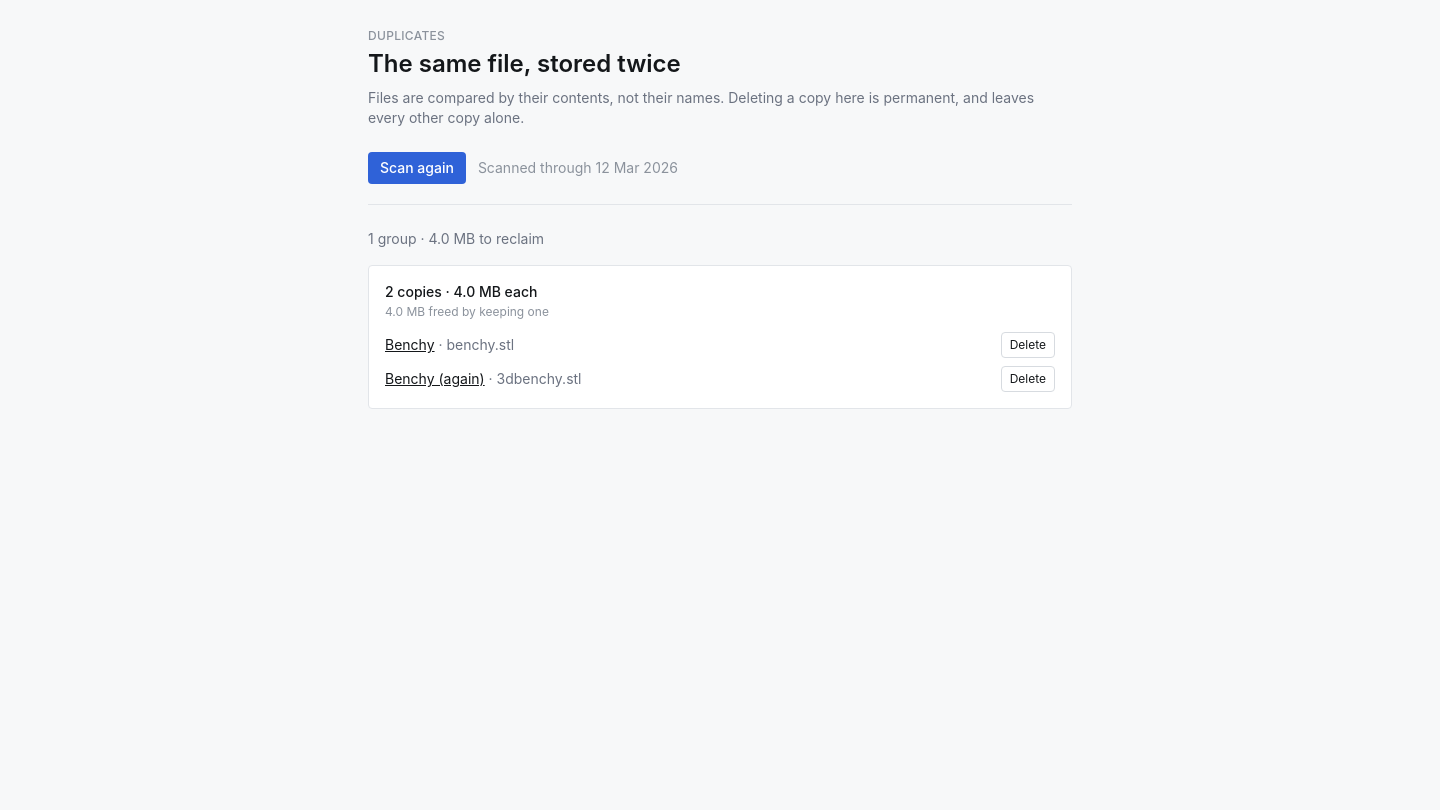
Test case: duplicates page › does not let a read started before a scan put a stale answer back
Click the button "Delete" in the row of "· benchy.stl": (1028, 345) [1001,332,1055,358]
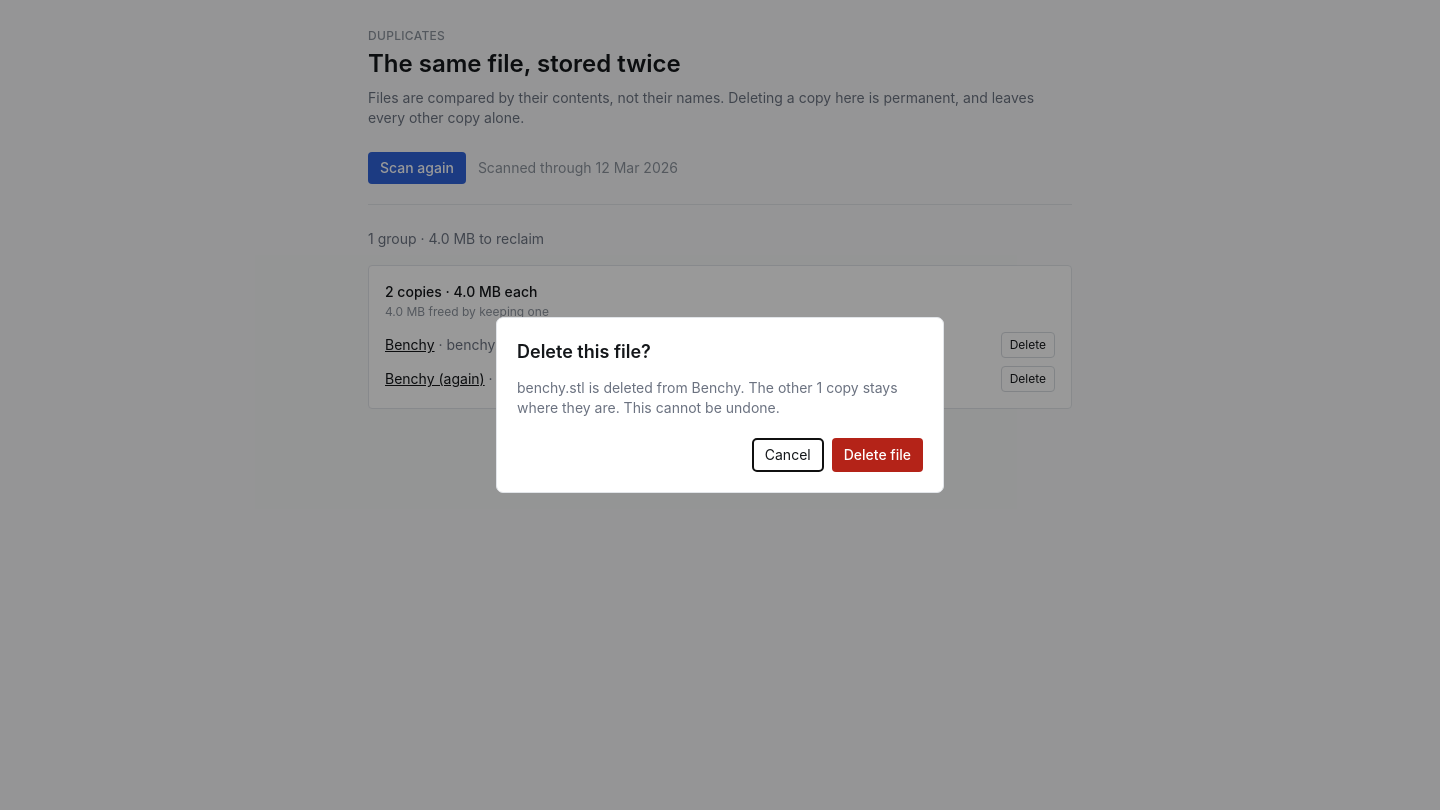
Click the button "Delete file": (877, 455) [832,438,923,472]
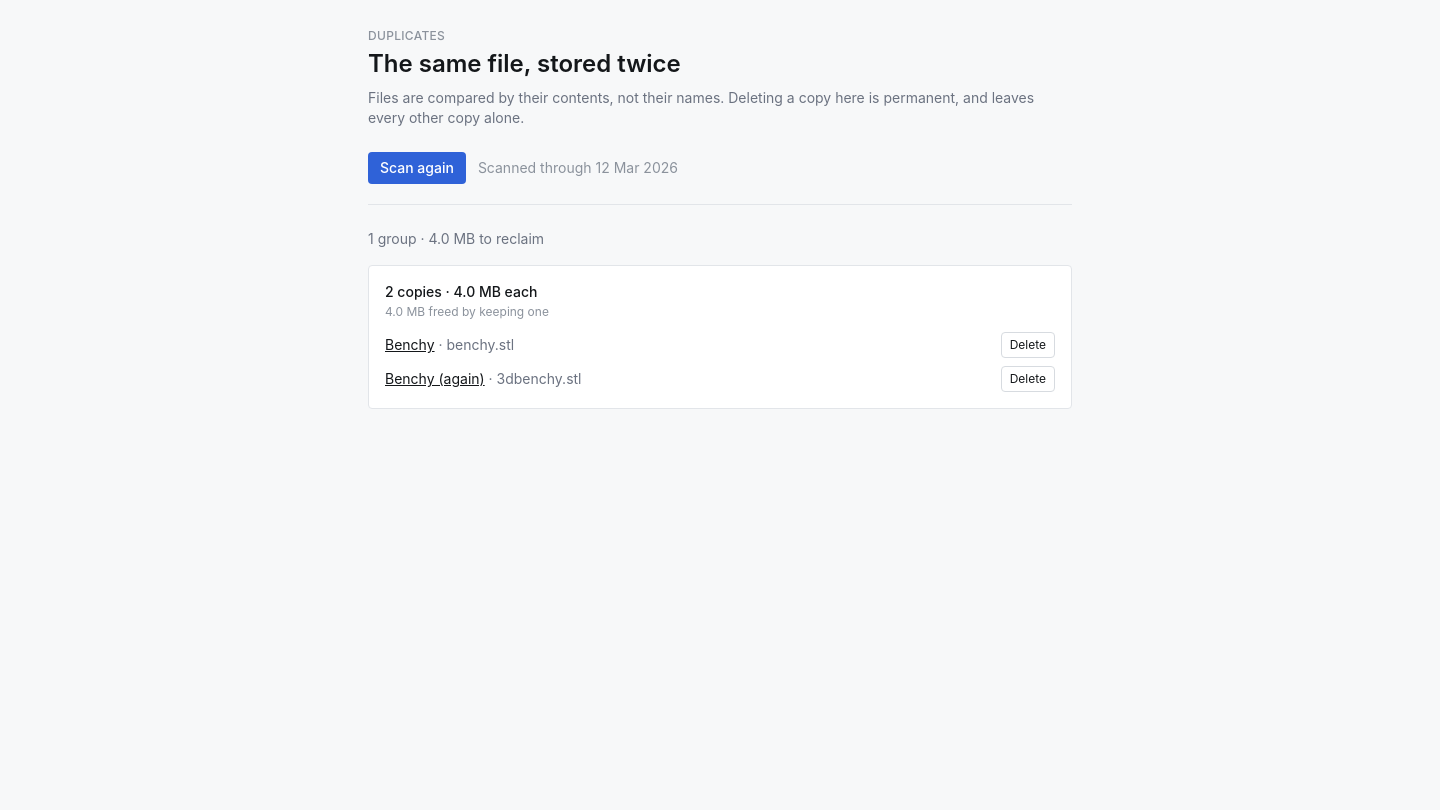
Click the button "Scan again": (417, 168) [368,152,466,184]
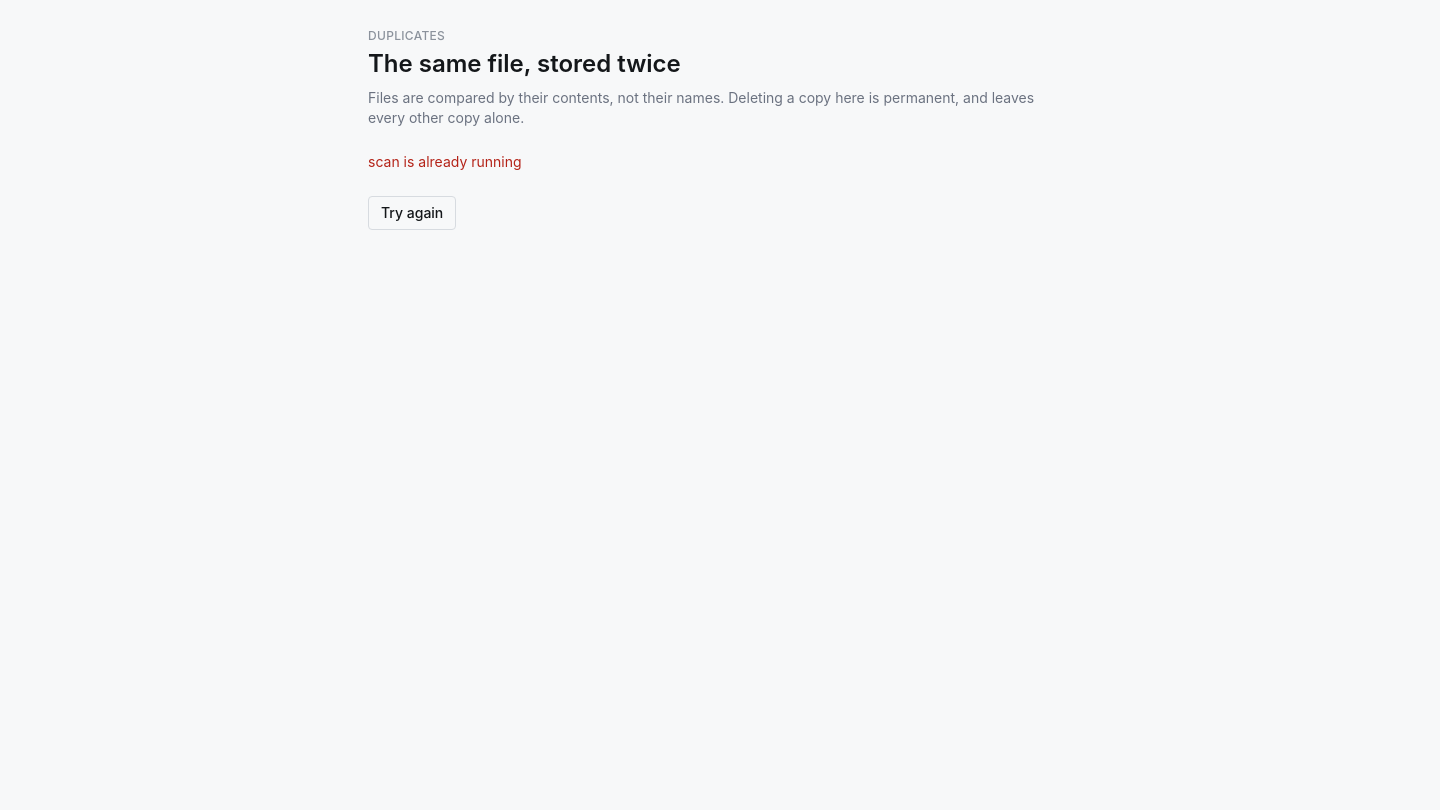
expect the text "scan is already running" is shown: met, box [368,153,522,170]
